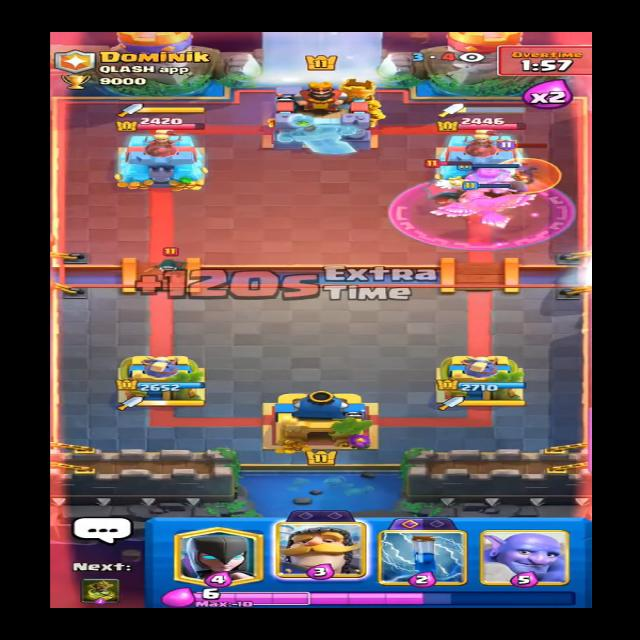bandit: (141, 244, 190, 279)
evo-wizard: (487, 139, 562, 193)
royal-ghost: (422, 160, 488, 207)
